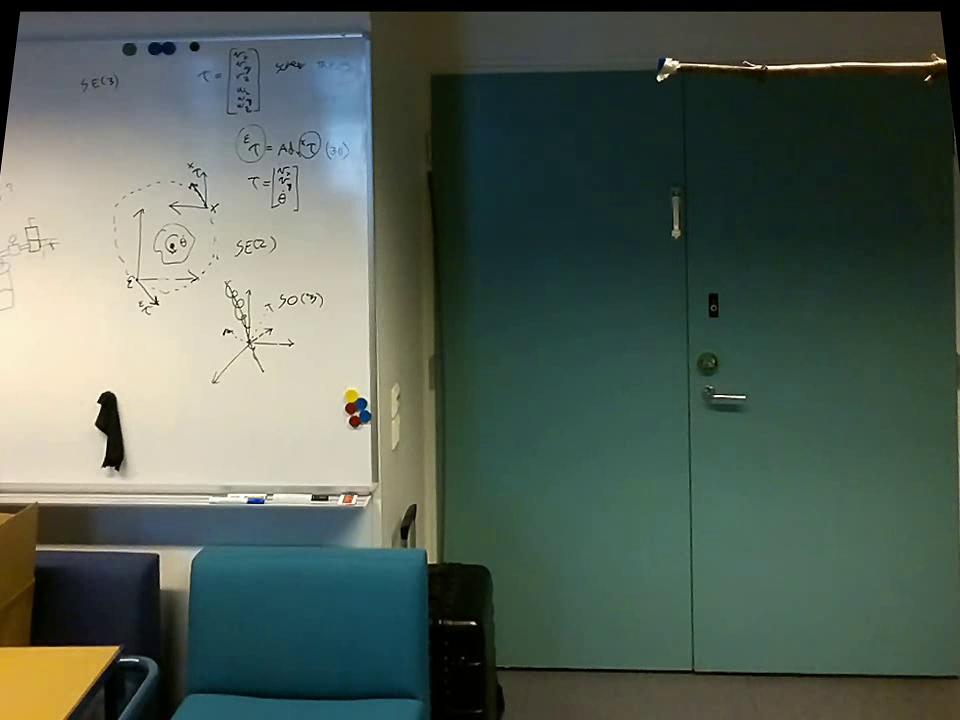aluminum_frame: (0, 481, 374, 511), (358, 31, 382, 495), (14, 27, 371, 52)
branch: (688, 48, 944, 86)
